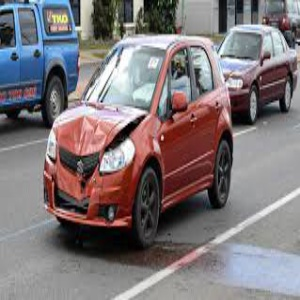bonnet: (59, 103, 129, 155)
